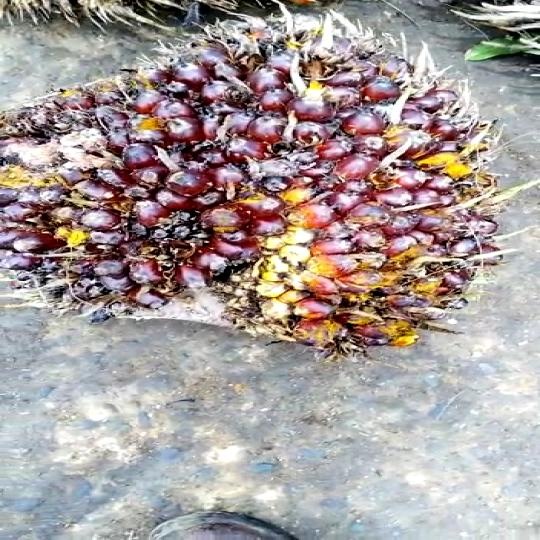masak: (0, 4, 503, 362)
